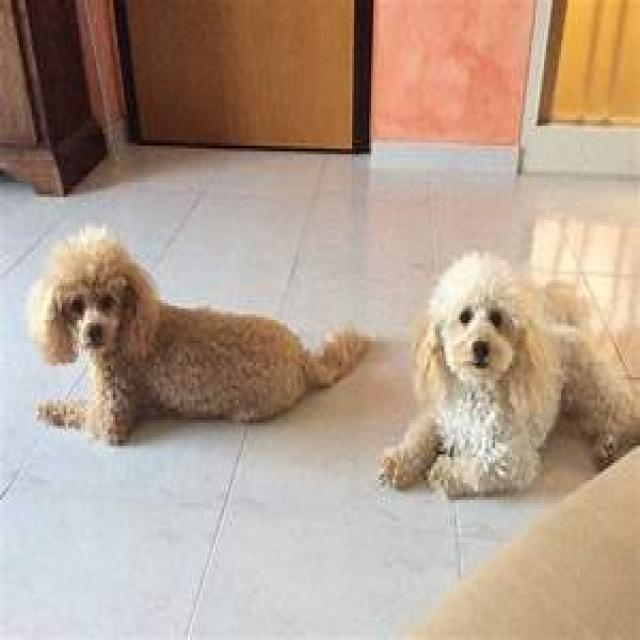animal: (26, 223, 373, 446), (375, 246, 638, 497)
